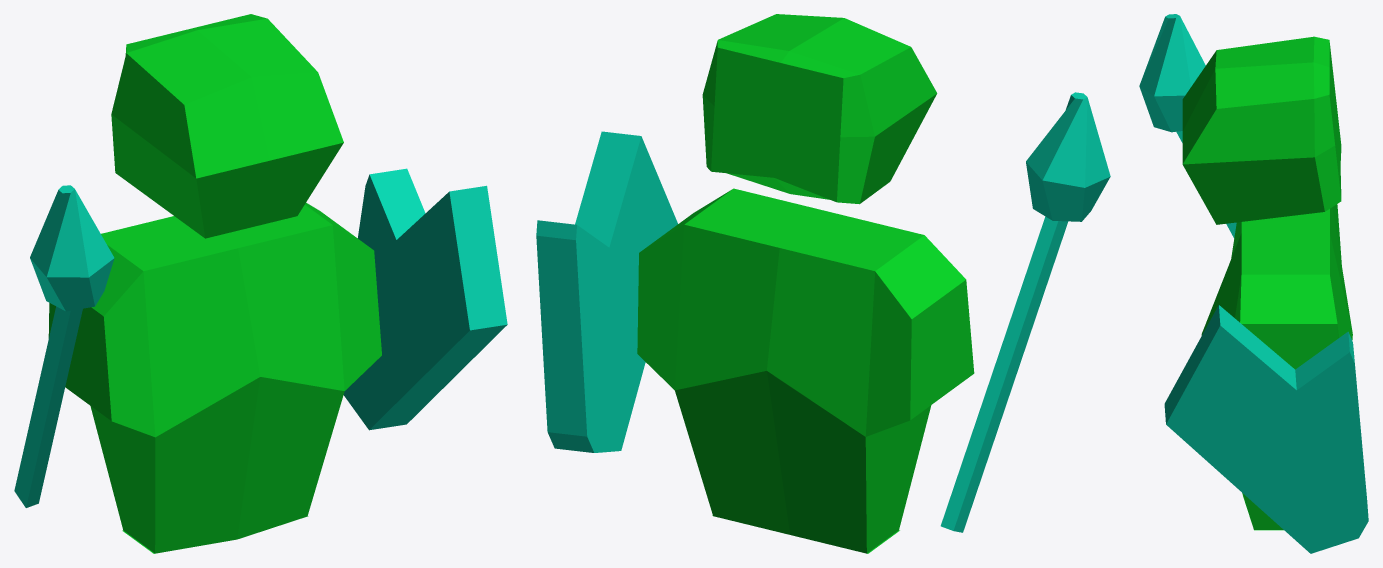
The model's file is enemy1.fbx.
The picture shows the model from 3 angles, left to right: view 1: azimuth 30°, elevation 25°; view 2: azimuth 150°, elevation 25°; view 3: azimuth 270°, elevation 25°; orthographic projection. The views are drawn at different scales.
Visible parts, largest first — view 1: Cube, Cube.003, Cube.005, Cube.004; view 2: Cube, Cube.003, Cube.005, Cube.004; view 3: Cube.005, Cube.003, Cube, Cube.004.
Boxes of the visible parts, x1=… form: Cube: x1=48, y1=202, x2=381, y2=553; Cube.003: x1=111, y1=14, x2=343, y2=238; Cube.005: x1=343, y1=168, x2=507, y2=430; Cube.004: x1=14, y1=185, x2=114, y2=507; Cube: x1=637, y1=188, x2=974, y2=553; Cube.003: x1=702, y1=14, x2=937, y2=204; Cube.005: x1=536, y1=131, x2=677, y2=452; Cube.004: x1=940, y1=92, x2=1110, y2=532; Cube.005: x1=1164, y1=305, x2=1368, y2=553; Cube.003: x1=1182, y1=36, x2=1341, y2=224; Cube: x1=1201, y1=204, x2=1352, y2=530; Cube.004: x1=1139, y1=14, x2=1236, y2=238.
Size of the model in its own units: 409 by 398 by 191.
